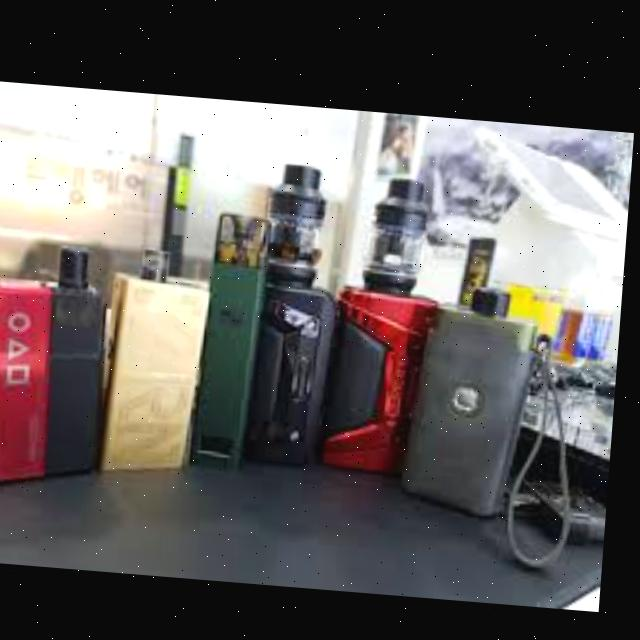vape: (331, 168, 442, 476), (410, 267, 548, 511), (0, 232, 122, 490), (249, 153, 345, 464), (110, 245, 218, 472), (202, 205, 270, 468)
